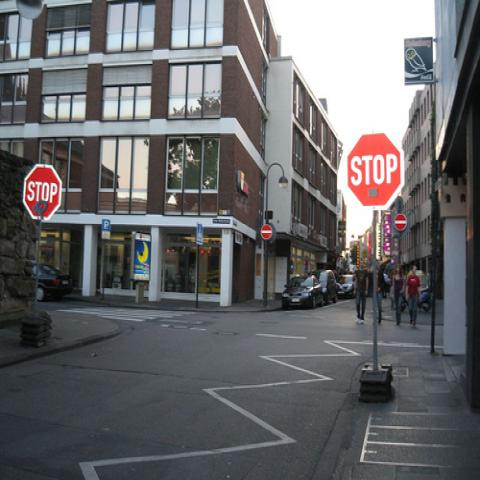car: (33, 263, 73, 302), (280, 274, 324, 308), (308, 270, 338, 306), (337, 275, 356, 298)
